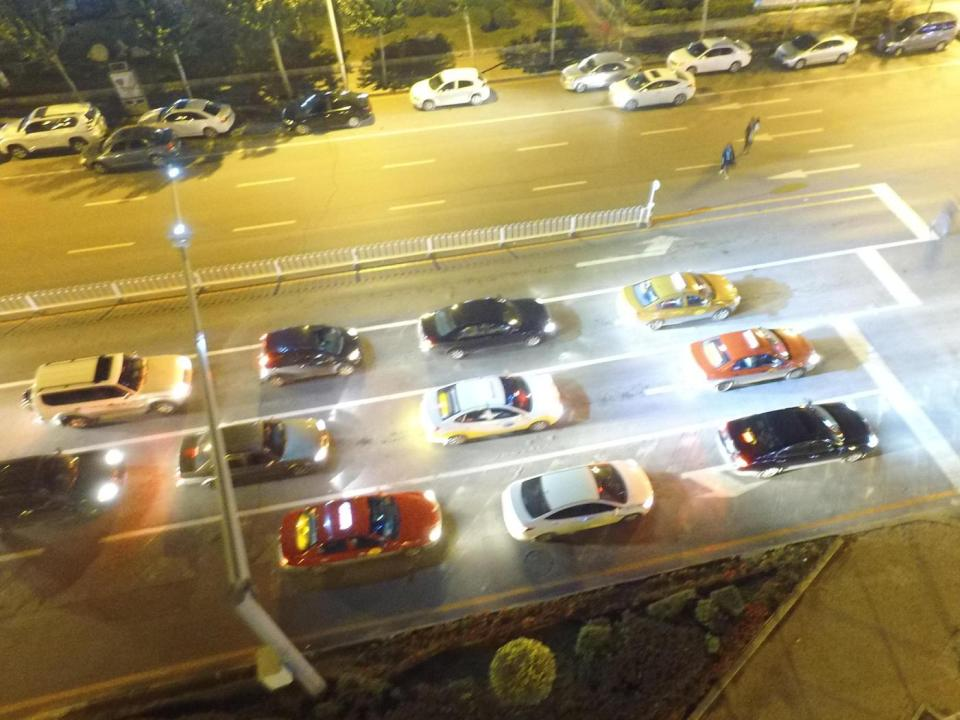car: (278, 490, 442, 576), (501, 459, 654, 542), (718, 400, 878, 478), (178, 416, 328, 490), (422, 368, 564, 445), (418, 293, 554, 359), (689, 328, 819, 391), (619, 272, 741, 329), (260, 324, 360, 386), (82, 126, 180, 173), (281, 90, 372, 134), (137, 99, 235, 139), (609, 68, 695, 110), (667, 36, 752, 76), (410, 68, 490, 110), (560, 52, 642, 92), (774, 32, 858, 69)
van: (21, 351, 192, 428), (0, 448, 122, 528), (0, 102, 106, 159), (875, 13, 958, 56)
